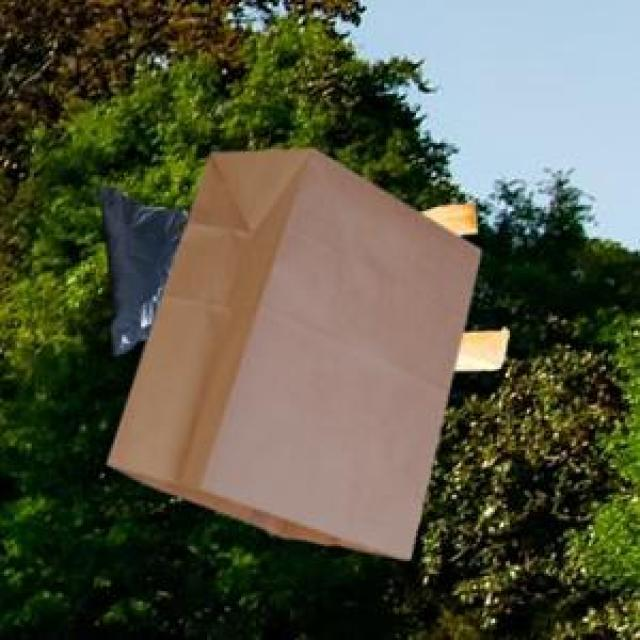miscellaneous trash: (94, 179, 186, 356)
paper: (105, 145, 476, 555)
